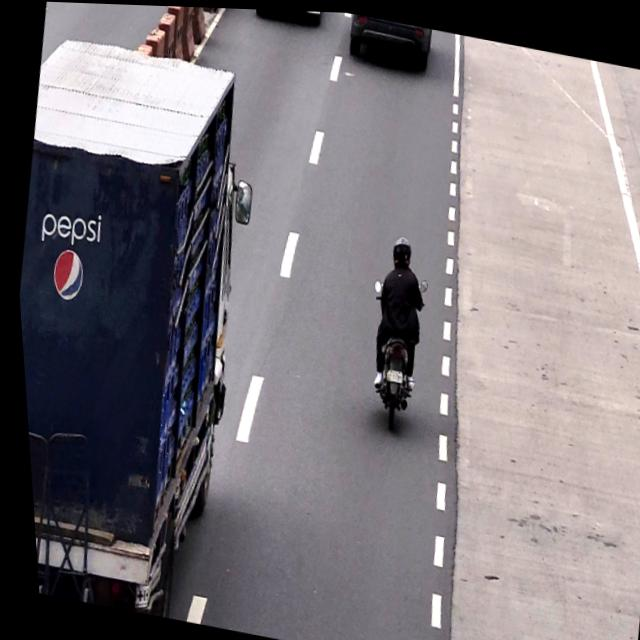License-Plate: (379, 366, 398, 381)
Motorcycle: (350, 227, 434, 425)
Truck: (2, 35, 269, 608)
